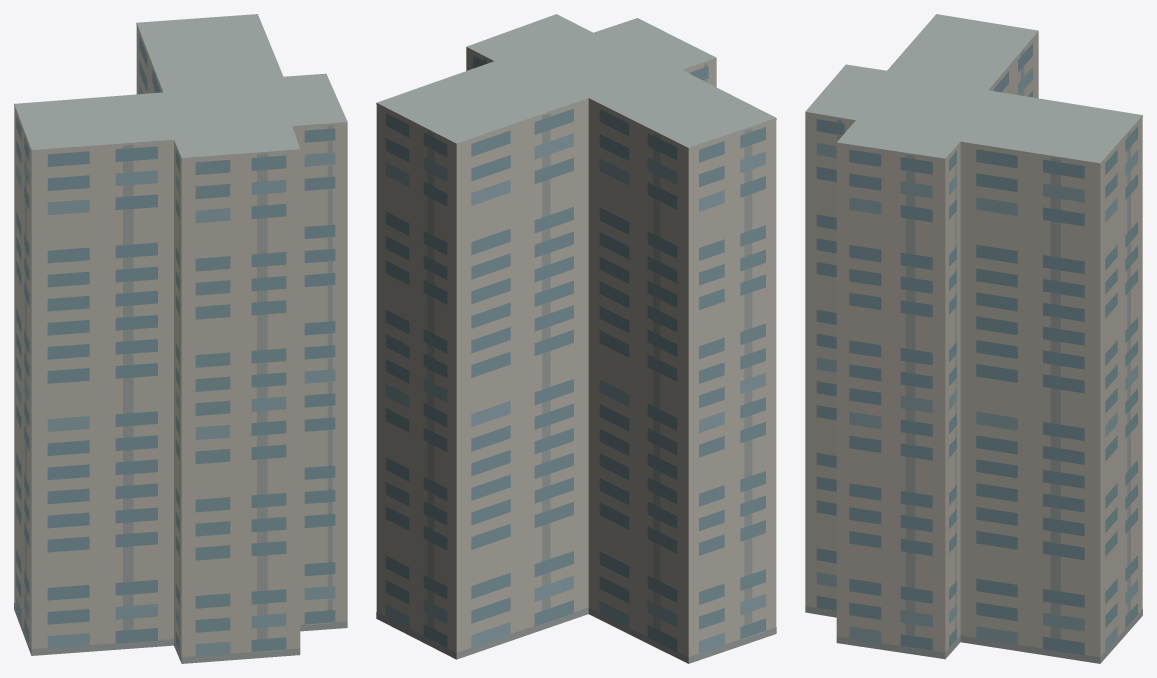
Rendered from residential-4647b9c3-856d-4506-9b44-6726c0b3e1cb.glb.
3 views of the same model, side by side, from view 1: azimuth 30°, elevation 25°; view 2: azimuth 150°, elevation 25°; view 3: azimuth 270°, elevation 25° (orthographic). The views are drawn at different scales.
Visible parts, largest first — view 1: residential-4647b9c3-856d-4506-9b44-6726c0b3e1cb.tmp; view 2: residential-4647b9c3-856d-4506-9b44-6726c0b3e1cb.tmp; view 3: residential-4647b9c3-856d-4506-9b44-6726c0b3e1cb.tmp.
Boxes of the visible parts, x1=… form: residential-4647b9c3-856d-4506-9b44-6726c0b3e1cb.tmp: x1=14, y1=14, x2=347, y2=663; residential-4647b9c3-856d-4506-9b44-6726c0b3e1cb.tmp: x1=376, y1=14, x2=776, y2=663; residential-4647b9c3-856d-4506-9b44-6726c0b3e1cb.tmp: x1=805, y1=14, x2=1142, y2=663.
Size of the model in its own units: 39.03 by 61 by 37.29.
